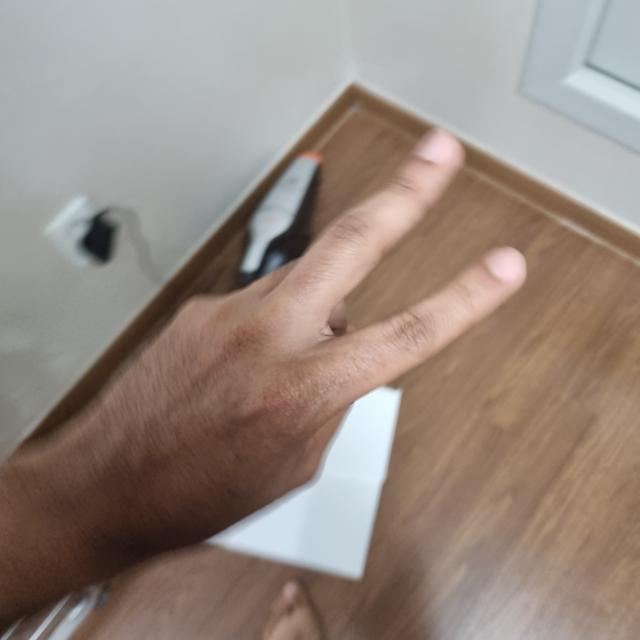Scissors: (55, 134, 521, 553)
